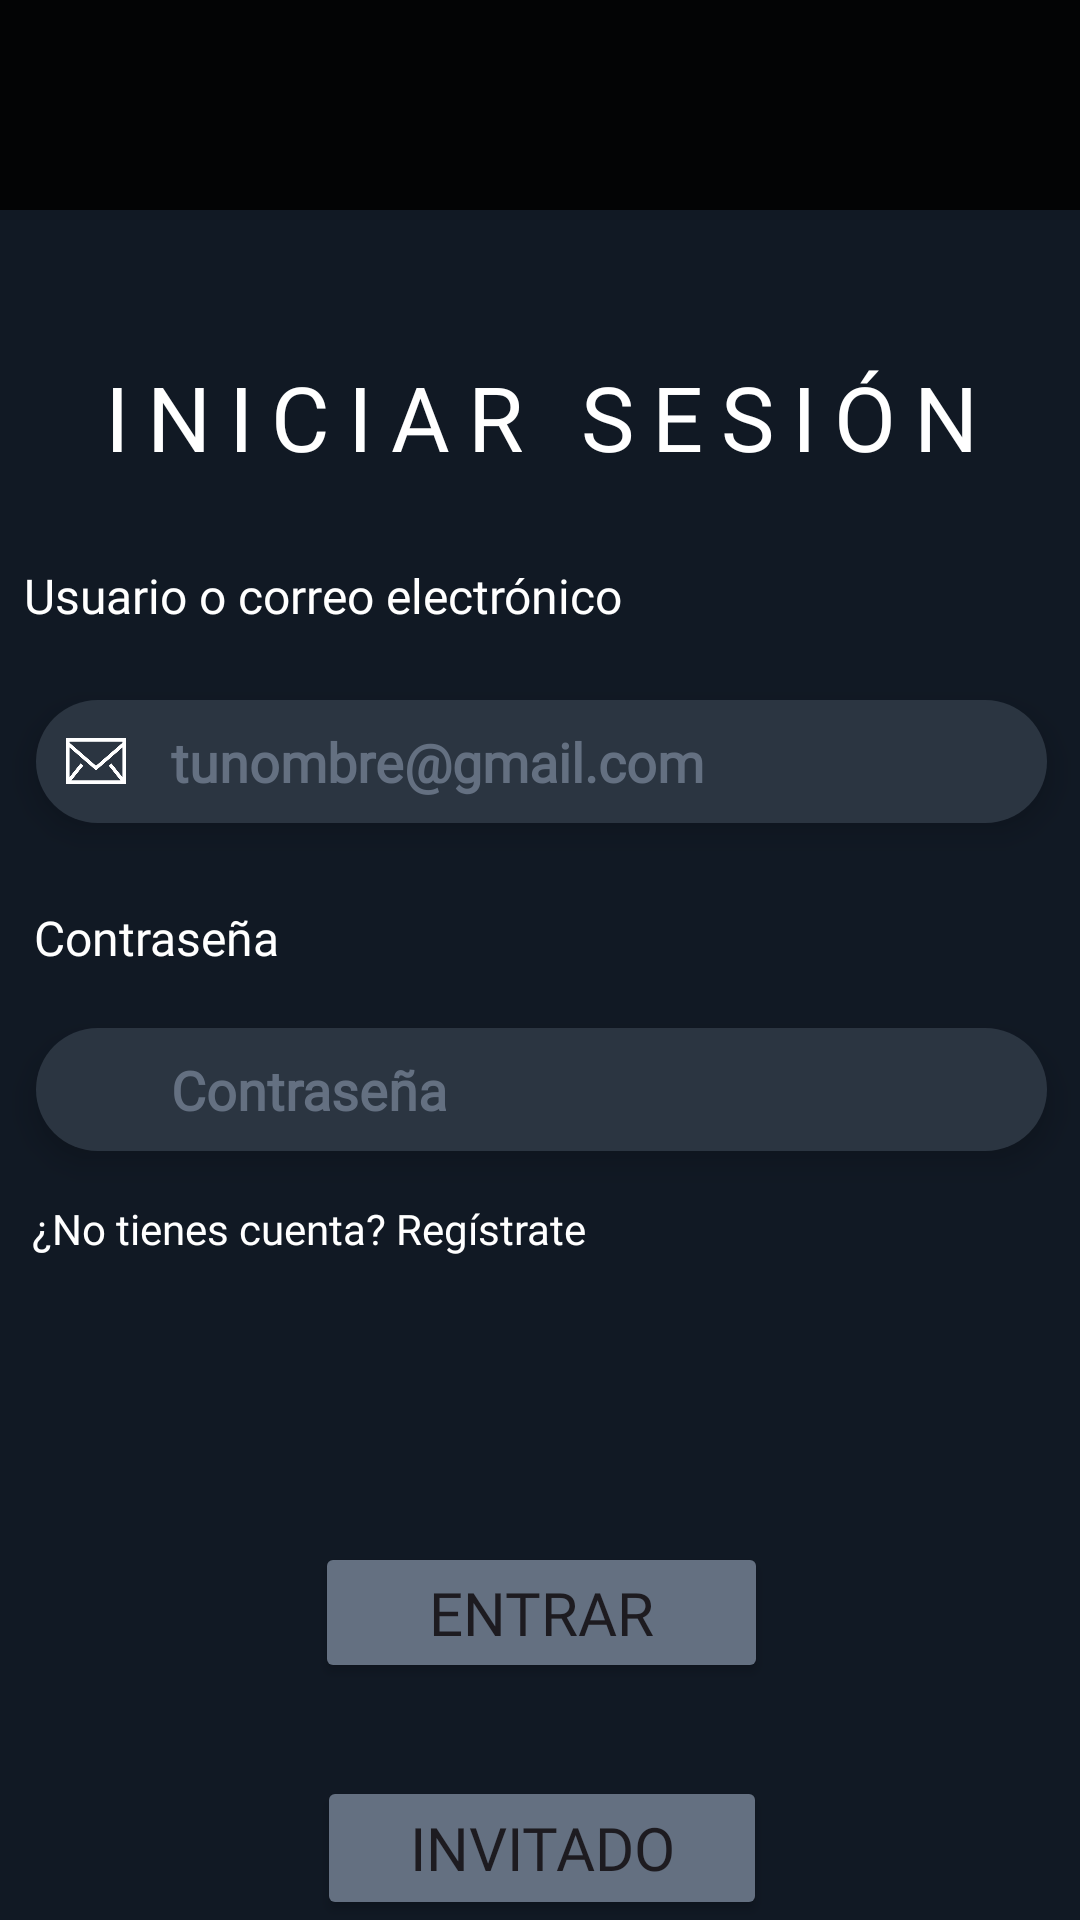

Where icons sit on this 1080 x 1920 app screen, as (x1, y1, x2, y2):
email: (66, 738, 126, 784)
